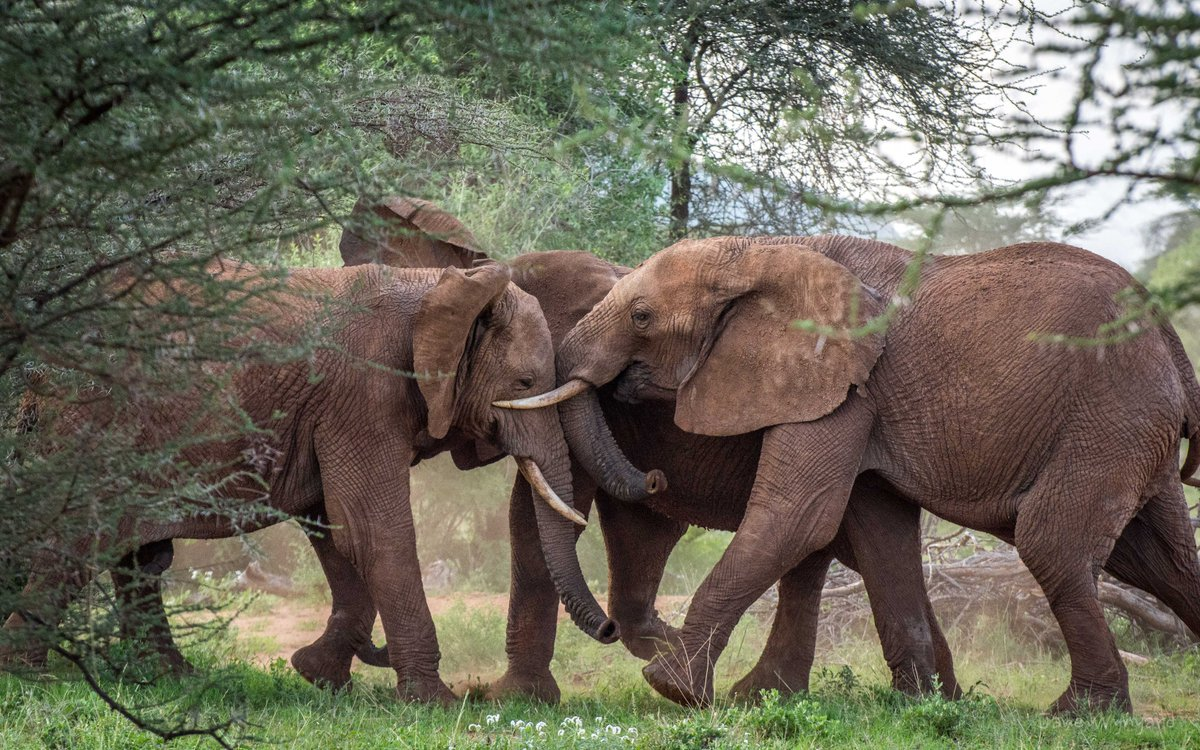elephant: (577, 246, 1200, 718), (1, 258, 568, 707)
